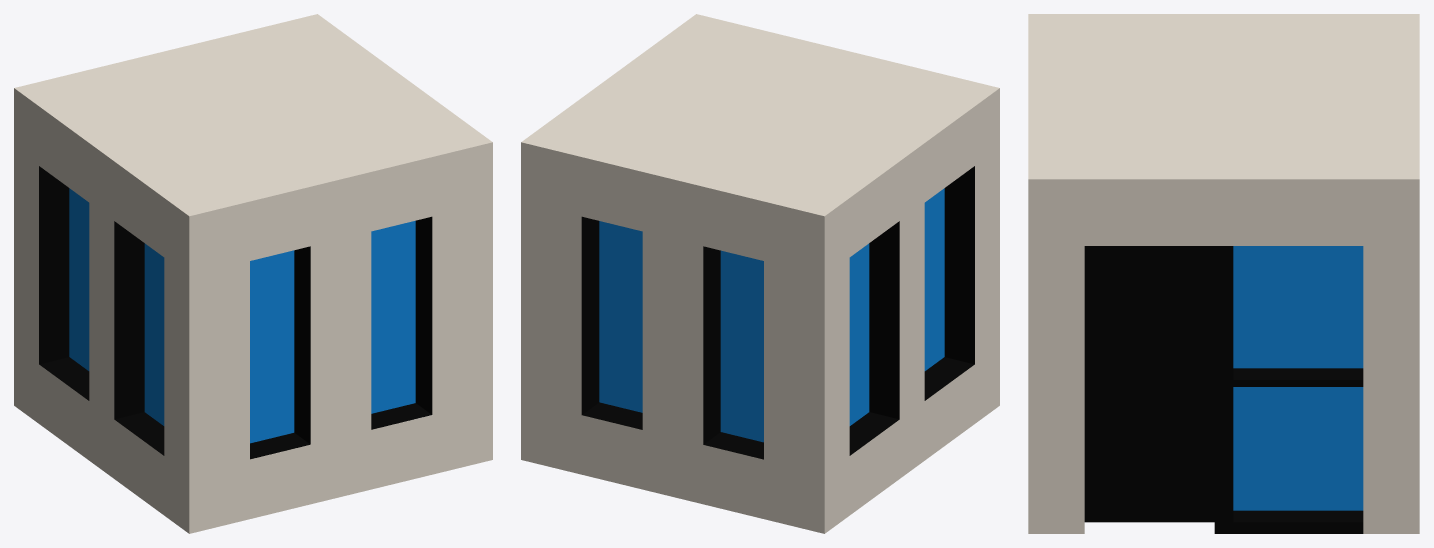
3 views of the same model, side by side, from view 1: azimuth 30°, elevation 25°; view 2: azimuth 150°, elevation 25°; view 3: azimuth 270°, elevation 25° (orthographic). The views are drawn at different scales.
Visible parts, largest first — view 1: GROUND FLOAR; view 2: GROUND FLOAR; view 3: GROUND FLOAR.
Part boxes in pixels (left/top/right/bottom): GROUND FLOAR: left=14, top=14, right=492, bottom=533; GROUND FLOAR: left=521, top=14, right=999, bottom=533; GROUND FLOAR: left=1028, top=14, right=1419, bottom=533.
Bounding box in the file's own units: 100 × 100 × 100.
